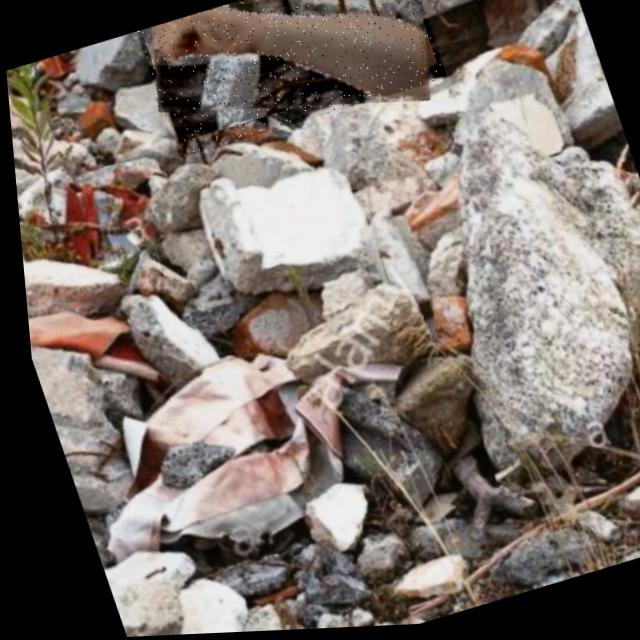Person in Rubble: (132, 0, 450, 160)
